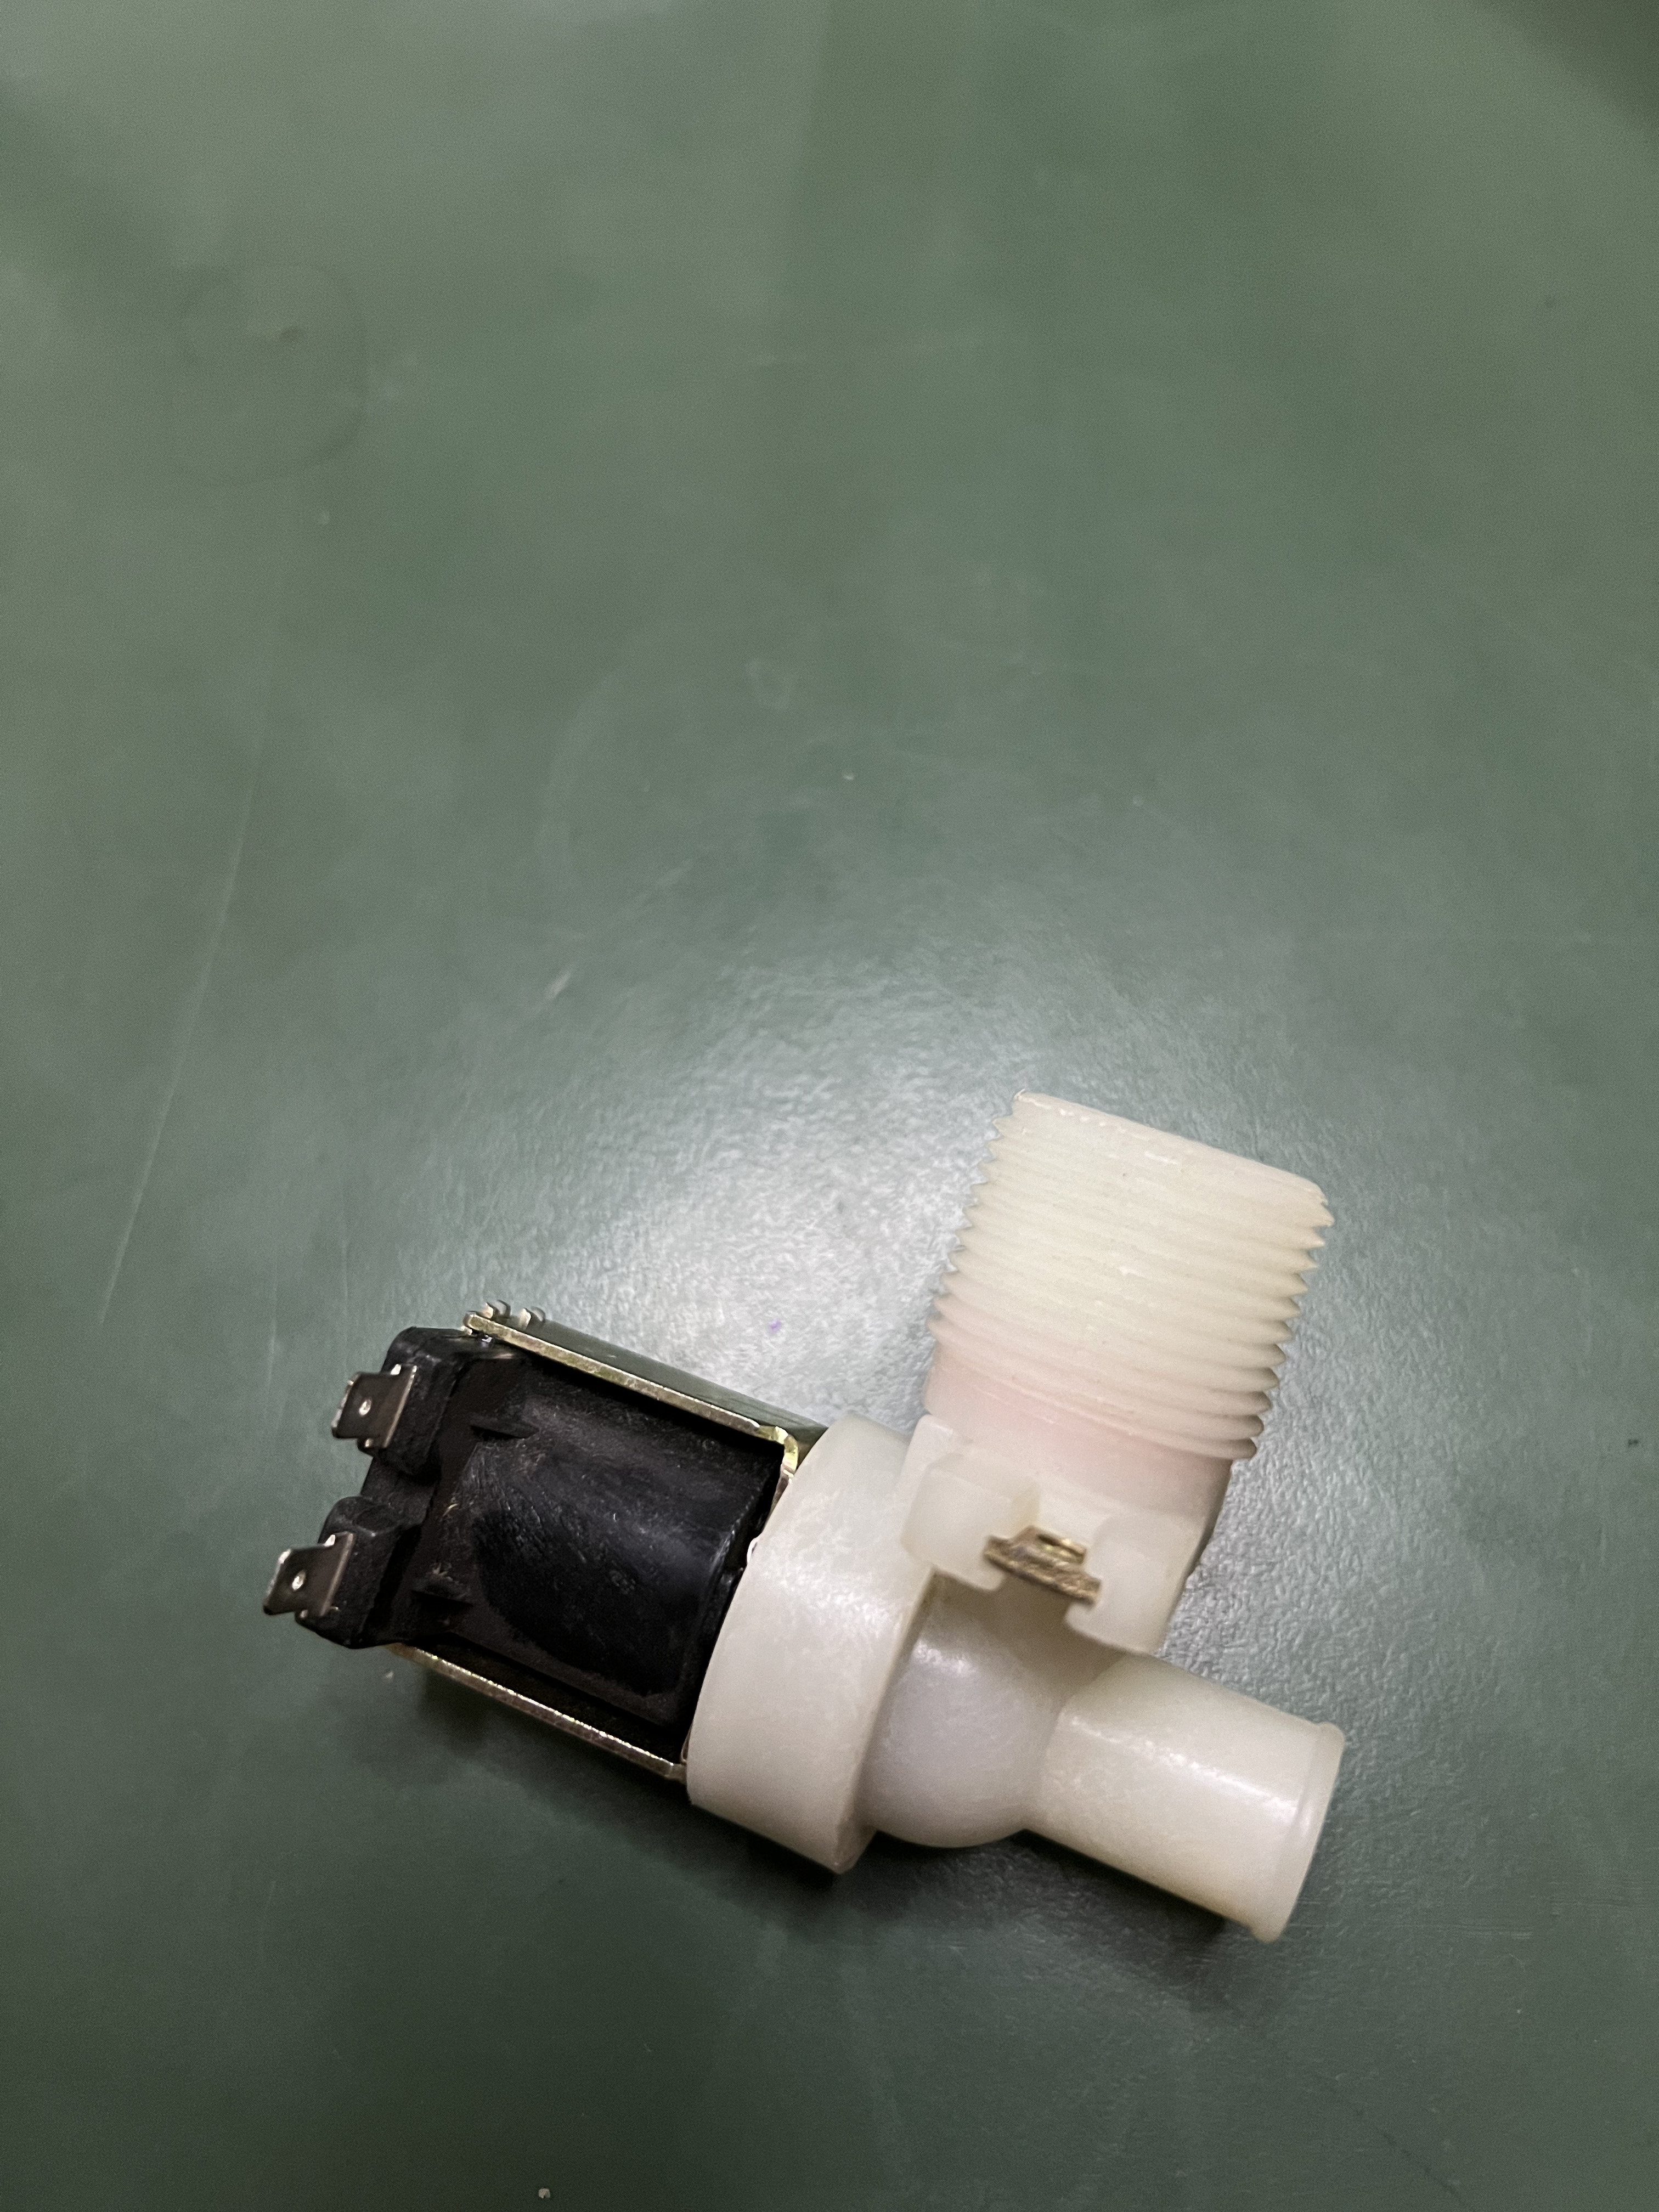godrej_inlet_valves: (204, 1033, 1384, 1958)
